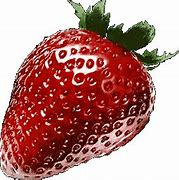Fresa: (1, 25, 157, 180)
